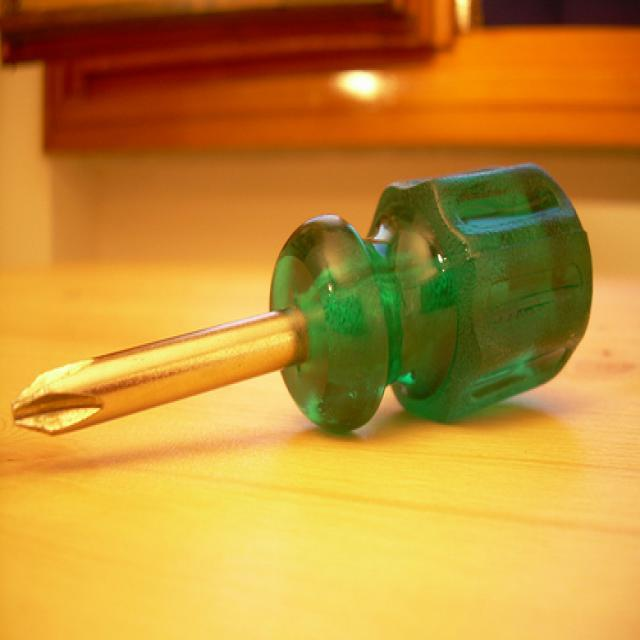screwdriver: (7, 151, 600, 462)
